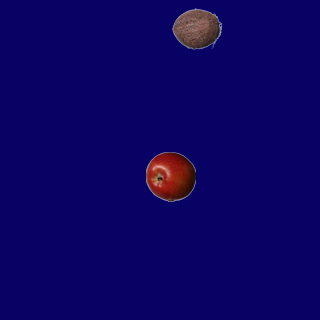Apple Braeburn: (145, 151, 195, 201)
Cocos: (171, 3, 221, 53)
